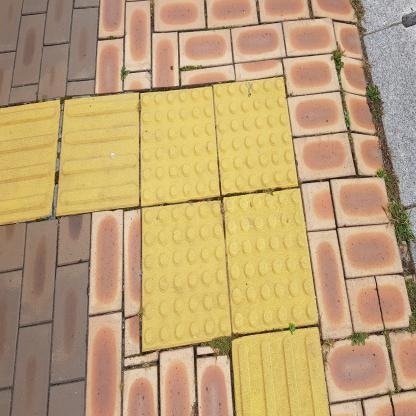podotacti: (0, 68, 335, 415)
